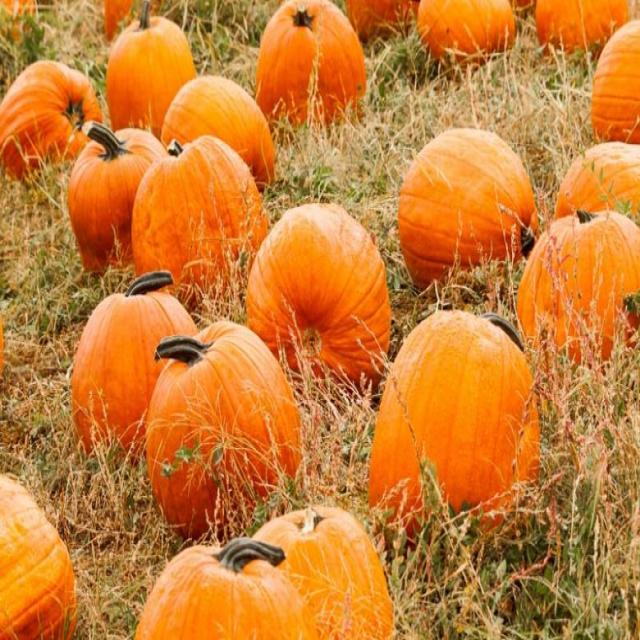pumpkin: (369, 311, 539, 532), (146, 322, 301, 538), (246, 204, 391, 383), (399, 129, 539, 289), (74, 270, 196, 452), (131, 135, 268, 288), (254, 506, 394, 639), (518, 210, 640, 361), (135, 538, 316, 639), (69, 122, 166, 271), (256, 0, 366, 124), (161, 77, 275, 188), (0, 474, 76, 638), (106, 0, 196, 136), (0, 60, 102, 177), (555, 142, 640, 218), (591, 19, 640, 143), (419, 0, 515, 62), (536, 1, 628, 52), (346, 0, 419, 42), (105, 0, 133, 40)
